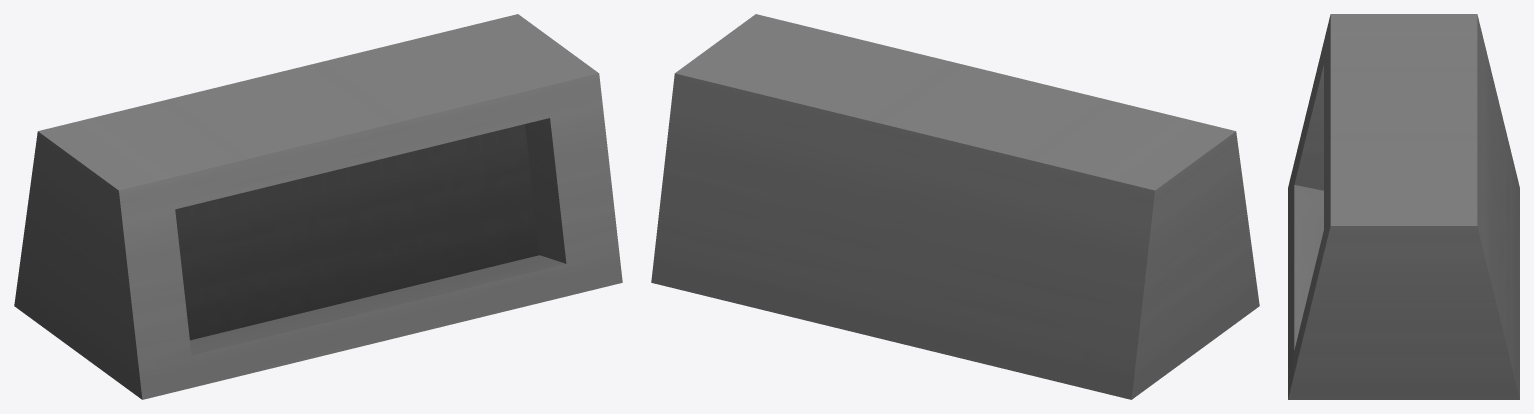
The model's file is Reloj_De_Mesa.fbx.
3 renders of one model, left to right at view 1: azimuth 30°, elevation 25°; view 2: azimuth 150°, elevation 25°; view 3: azimuth 270°, elevation 25°, orthographic. The views are drawn at different scales.
Parts seen in each view (by area): view 1: Reloj_De_Mesa; view 2: Reloj_De_Mesa; view 3: Reloj_De_Mesa.
Boxes of the visible parts, left/top/right/bottom form: Reloj_De_Mesa: left=14, top=14, right=622, bottom=399; Reloj_De_Mesa: left=651, top=14, right=1259, bottom=399; Reloj_De_Mesa: left=1288, top=14, right=1519, bottom=399.
Bounding box in the file's own units: 2 × 0.7646 × 0.9244.
Materials: 1 (1 with a texture image).
